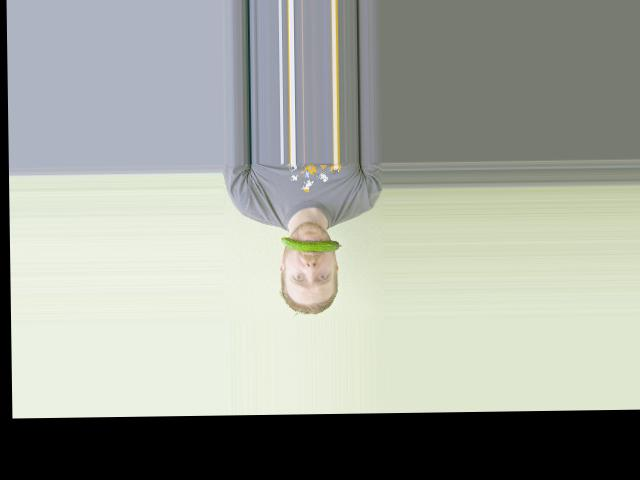cucumber: (280, 235, 342, 252)
